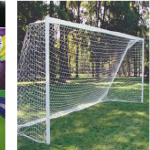goals: (18, 15, 146, 146)
